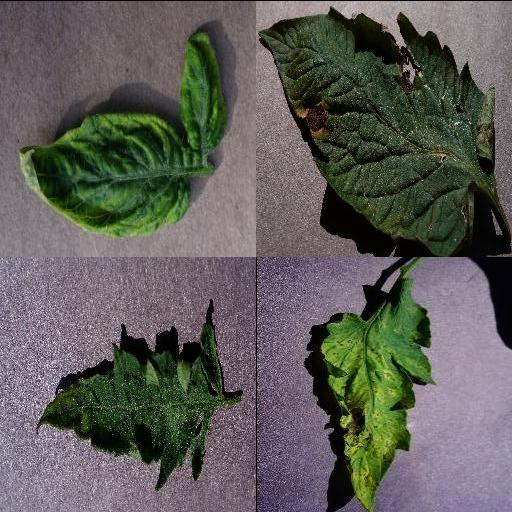Early Blight: (258, 6, 498, 256)
Mosaic Virus: (34, 319, 224, 493)
Septoria: (320, 278, 434, 512)
Yellow Leaf Curl Virus: (19, 112, 191, 238), (180, 29, 228, 149)
